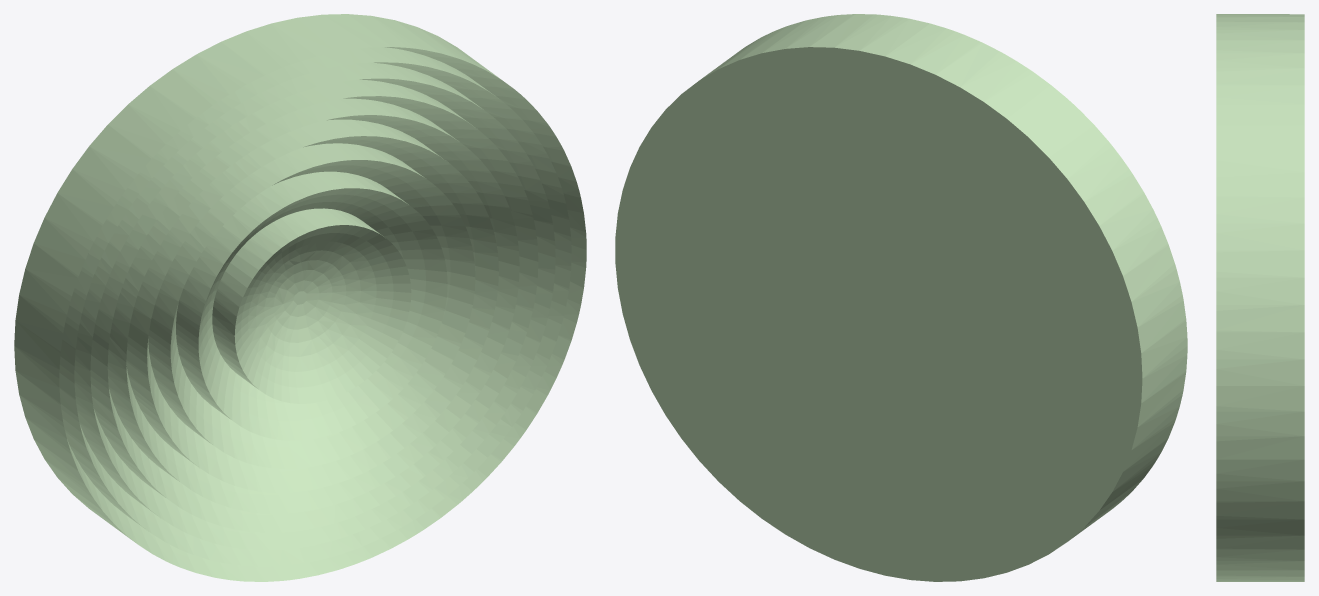
The model's file is tinker.obj.
The picture shows the model from 3 angles, left to right: view 1: azimuth 30°, elevation 25°; view 2: azimuth 150°, elevation 25°; view 3: azimuth 270°, elevation 25°; orthographic projection. The views are drawn at different scales.
Visible parts, largest first — view 1: obj_0; view 2: obj_0; view 3: obj_0.
Part boxes in pixels (x1,y1,x2,y2): obj_0: (14, 14, 586, 581); obj_0: (615, 14, 1187, 581); obj_0: (1216, 14, 1304, 581).
Bounding box in the file's own units: 67.5 × 63.5 × 10.
